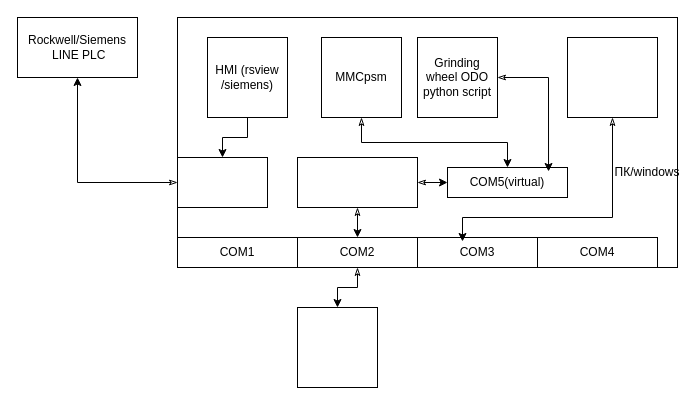
This 697x405 diagram has some shape labels left out. The box of each missing label's shape, as (x1, y1, x2, y2) in pixels:
CNC PSM: (296, 306, 378, 388)
Ethernet: (176, 156, 268, 208)
MMCksm: (566, 36, 658, 118)
VSPE serial port splitter/emulator: (296, 156, 418, 208)
